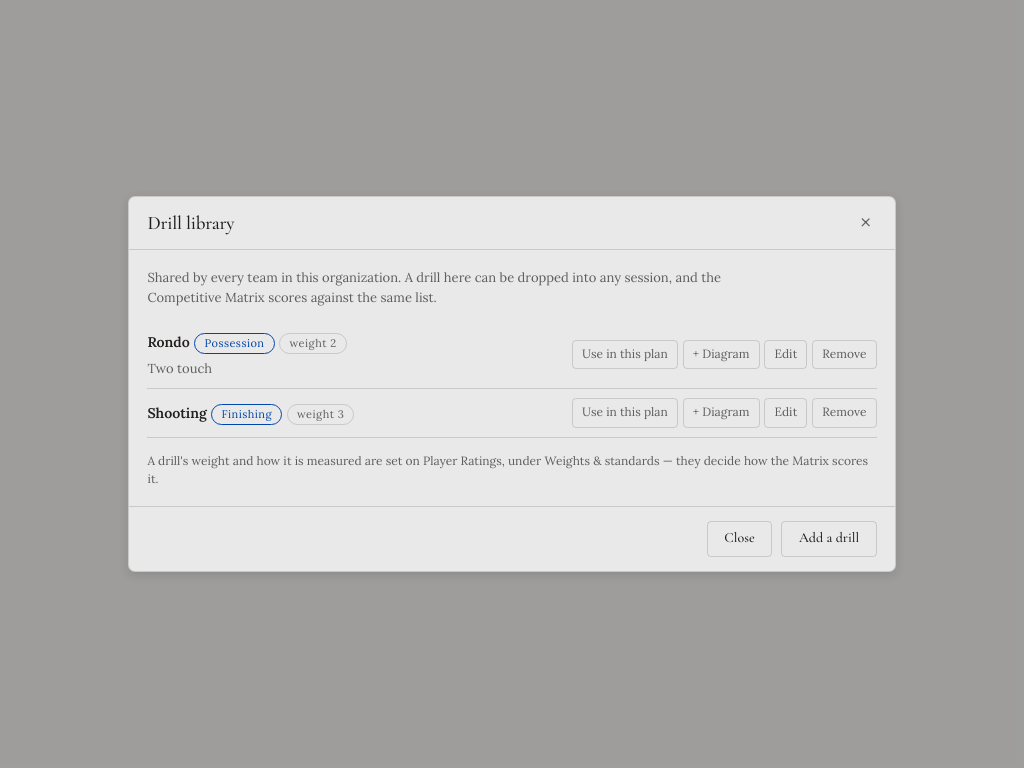
Test case: adding a drill › refuses to write without an organization rather than guessing one
Note: A bare call would be refused, or worse, land in somebody else's library.
Click the button "Add a drill": (829, 539) [781,521,877,557]
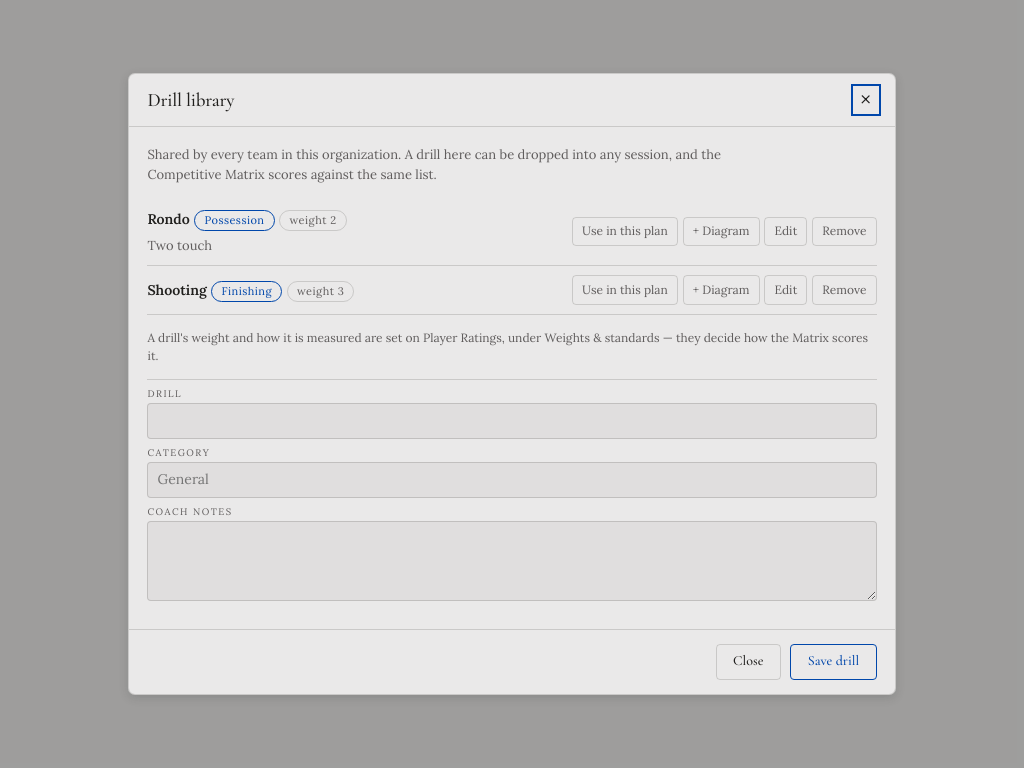
In the field labelled "Drill": (512, 421) [147,403,877,439], type "Pressing shape"
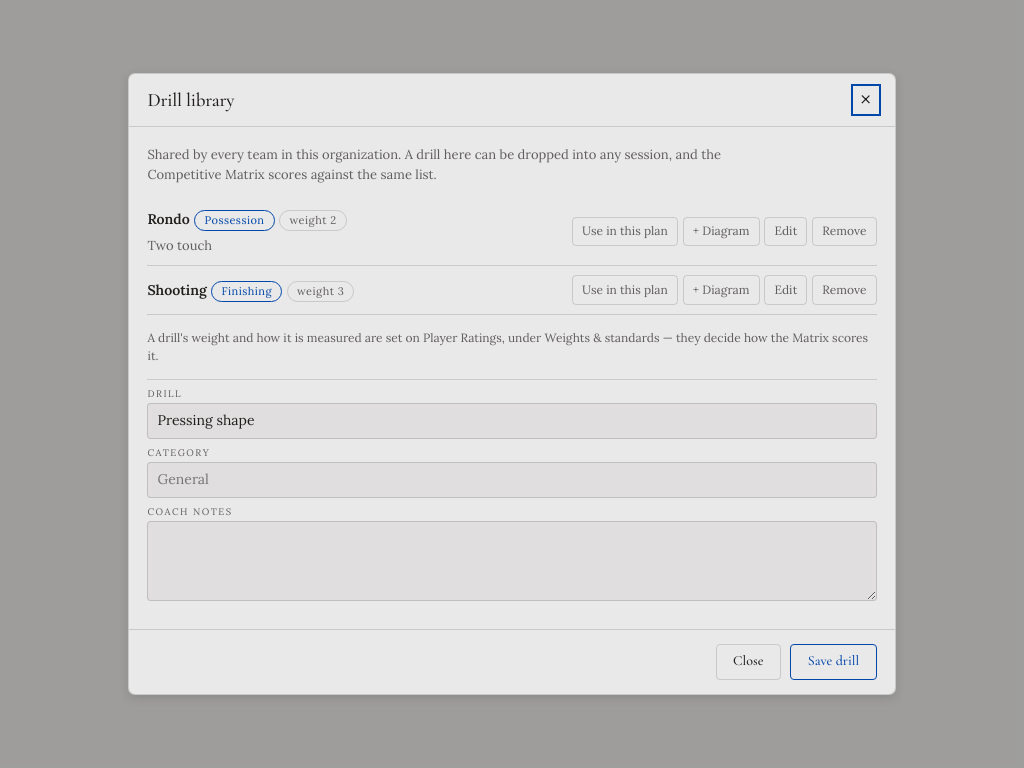
Click the button "Save drill": (834, 662) [790,644,877,680]
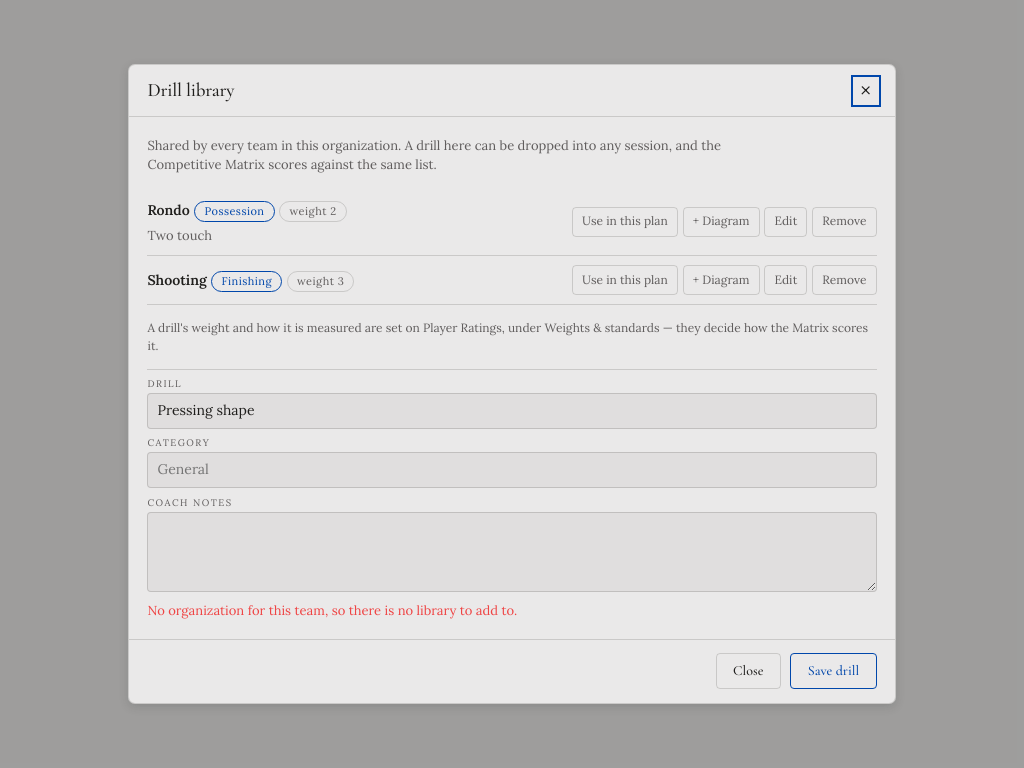
Result: the message "No organization for this team, so there is no library to add to." is shown at [147,602,517,619]
